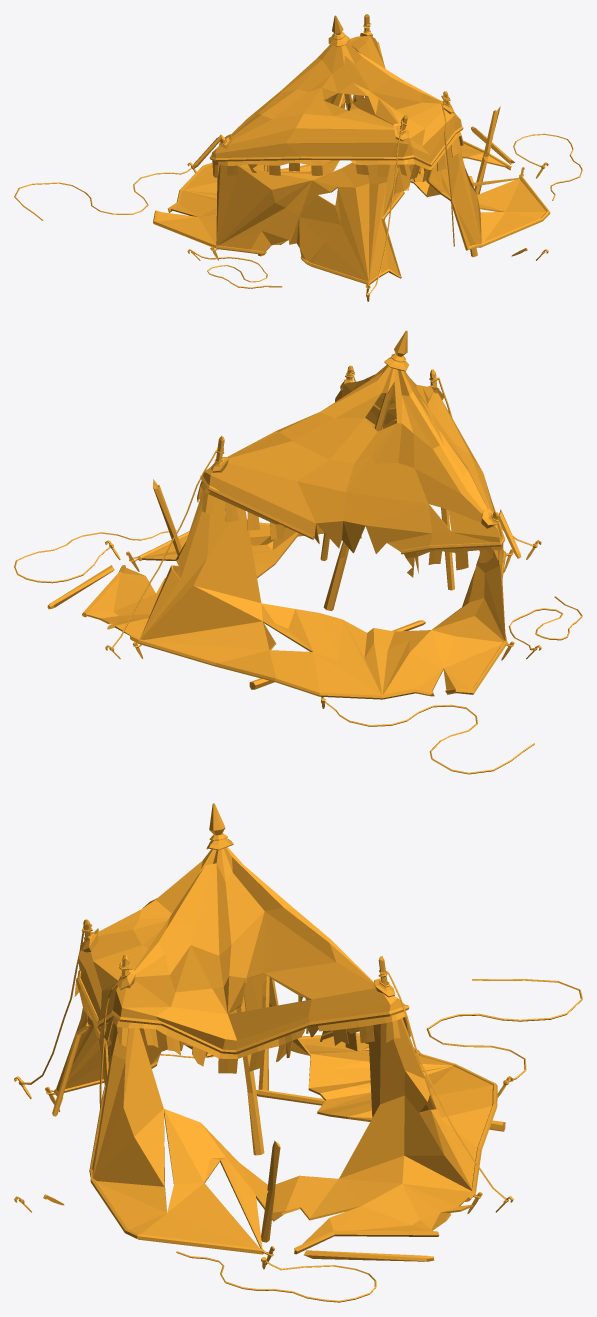
Rendered from SM_Tent_Hexagon_Striped_Destroyed_Fantasy.fbx.
The picture shows the model from 3 angles, top to bottom: view 1: azimuth 30°, elevation 25°; view 2: azimuth 150°, elevation 25°; view 3: azimuth 270°, elevation 25°; orthographic projection. The views are drawn at different scales.
Visible parts, largest first — view 1: tent-hexagon-striped-destroyed-fantasy; view 2: tent-hexagon-striped-destroyed-fantasy; view 3: tent-hexagon-striped-destroyed-fantasy.
Part boxes in pixels (left/top/right/bottom): tent-hexagon-striped-destroyed-fantasy: left=14, top=14, right=582, bottom=301; tent-hexagon-striped-destroyed-fantasy: left=14, top=330, right=582, bottom=774; tent-hexagon-striped-destroyed-fantasy: left=14, top=803, right=582, bottom=1302.
Size of the model in its own units: 10.71 by 5.16 by 7.99.
